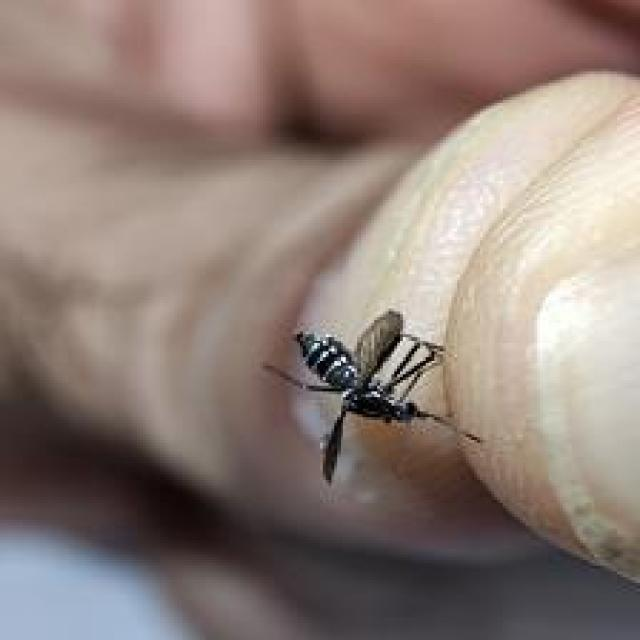Aedes albopictus: (260, 308, 483, 486)
